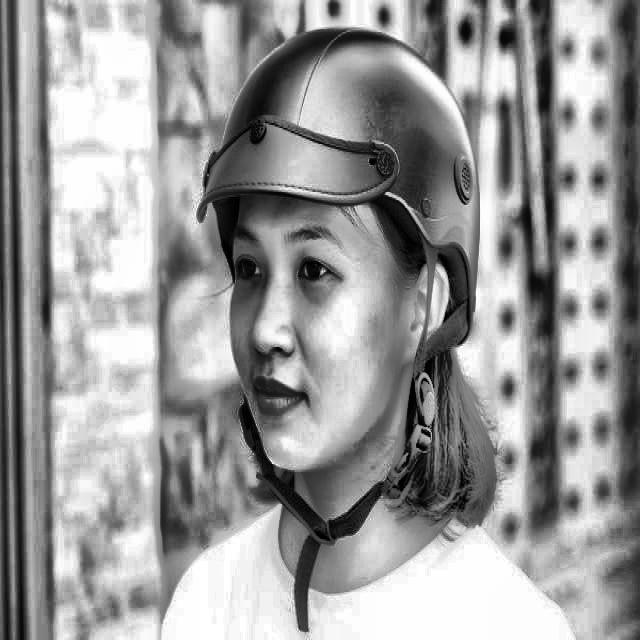Helmet: (192, 8, 490, 554)
